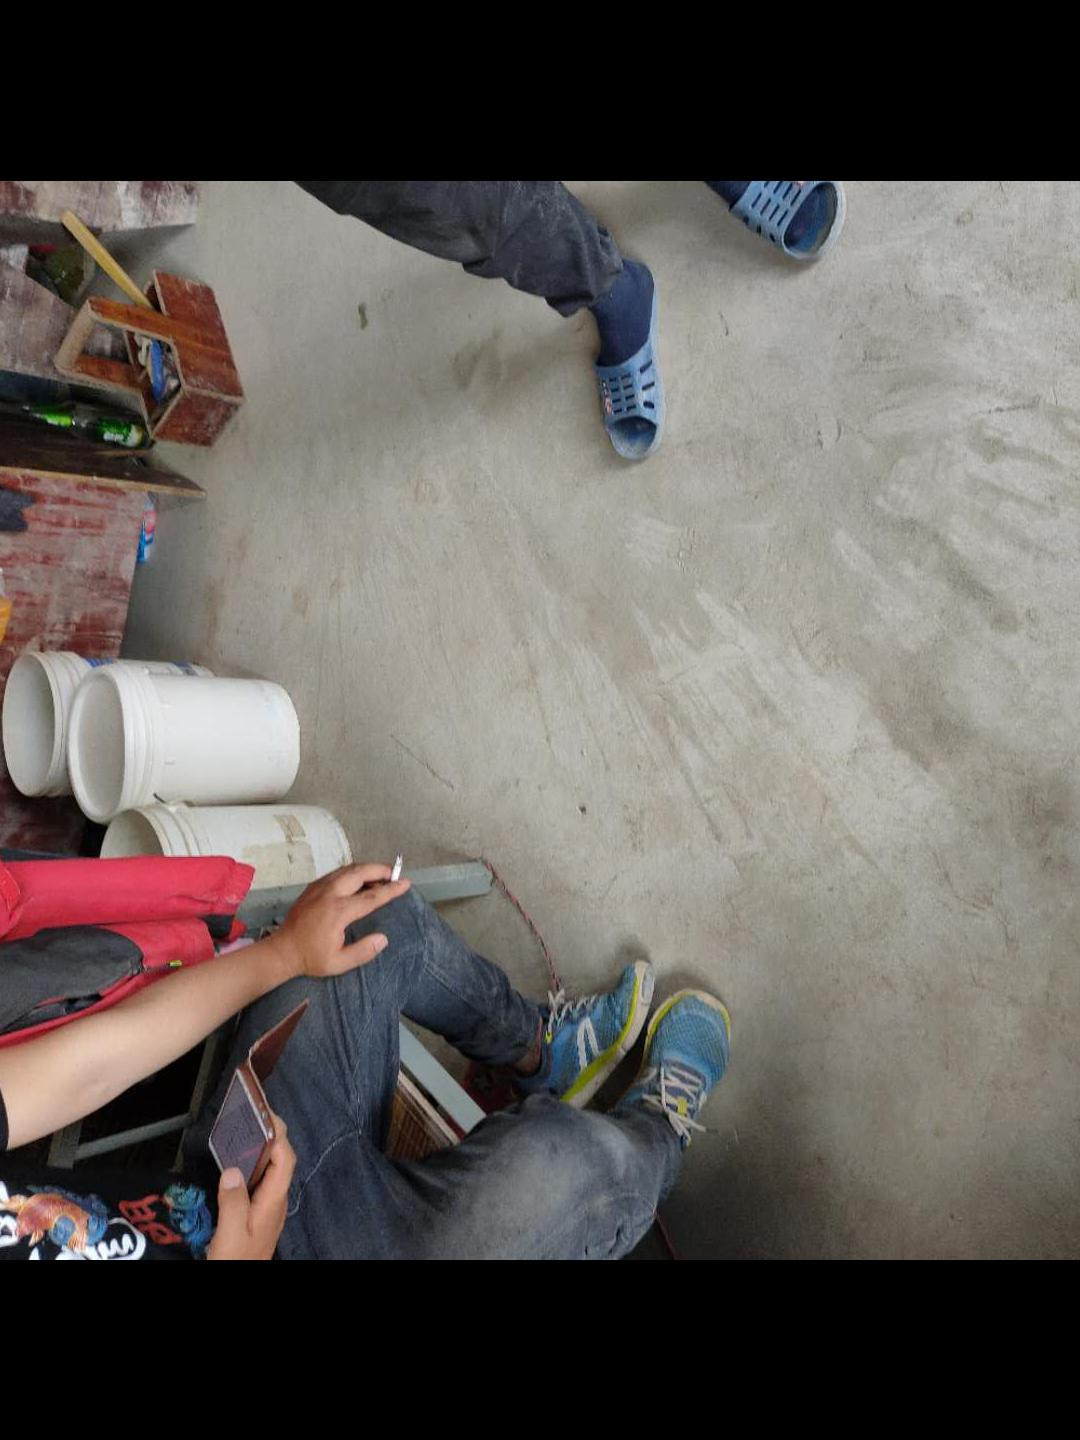Cigarette: (393, 853, 404, 881)
